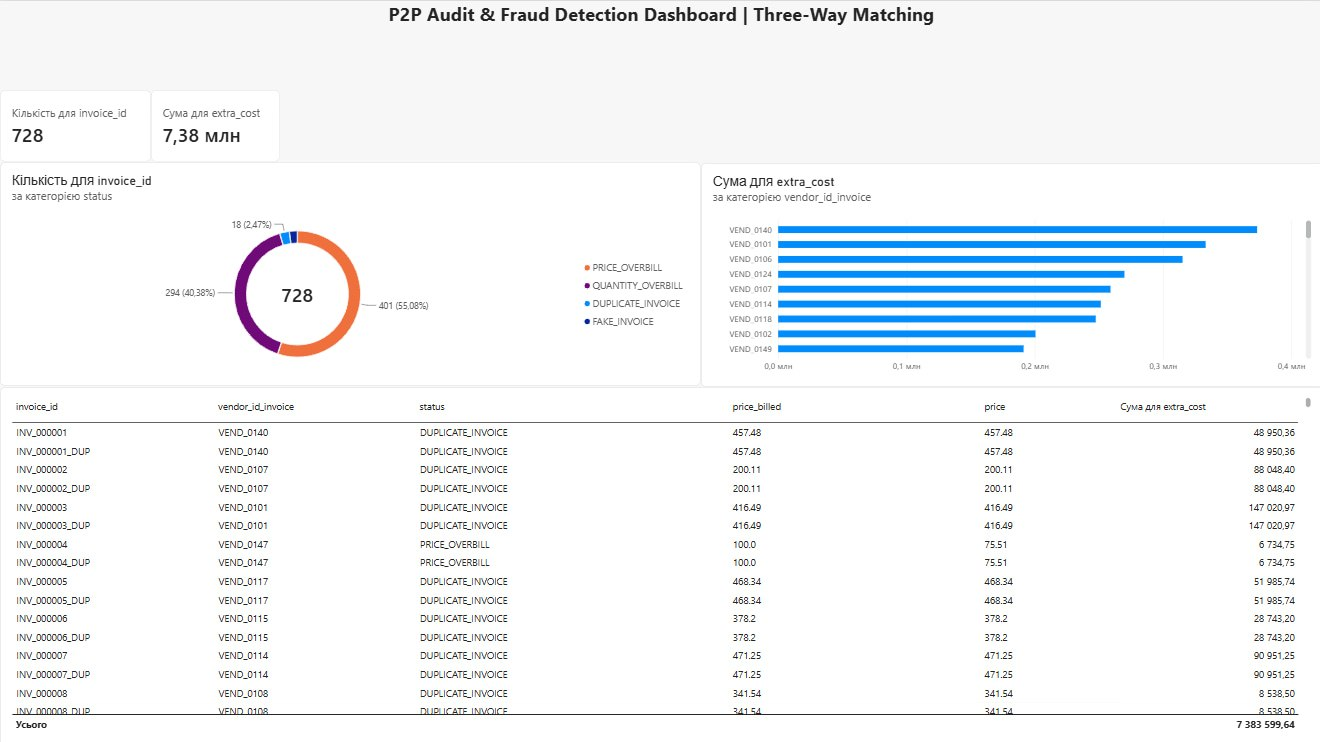

The dashboard page shown, as its layout file describes it:
{"tool":"powerbi","page":{"name":"Сторінка 1","canvas":[1920,1080],"ordinal":0},"visuals":[{"type":"cardVisual","fields":{"Data":["Sum(audit_exceptions_p2p.extra_cost)"]},"box":[219.1,129.2,187.2,104.5],"z":0},{"type":"cardVisual","fields":{"Data":["Count(audit_exceptions_p2p.invoice_id)"]},"box":[0,129.2,219.1,104.5],"z":1},{"type":"donutChart","fields":{"Category":["audit_exceptions_p2p.status"],"Y":["CountNonNull(audit_exceptions_p2p.invoice_id)"]},"box":[0,233.7,1017.3,325.1],"z":2},{"type":"barChart","fields":{"Category":["audit_exceptions_p2p.vendor_id_invoice"],"Y":["Sum(audit_exceptions_p2p.extra_cost)"]},"box":[1017.3,235.1,902.7,325.1],"z":3},{"type":"tableEx","fields":{"Values":["audit_exceptions_p2p.invoice_id","audit_exceptions_p2p.vendor_id_invoice","audit_exceptions_p2p.status","audit_exceptions_p2p.price_billed","audit_exceptions_p2p.price","Sum(audit_exceptions_p2p.extra_cost)"]},"box":[0,560.2,1920,519.5],"z":4},{"type":"textbox","box":[0,0,1920,129.2],"z":5}]}

Visuals, with their boxes in screenshot pixels (x1, y1, x2, y2), scaled from the page's 1920x1080 canvas onto the 1320x742 screenshot:
cardVisual - Sum(audit_exceptions_p2p.extra_cost): [151,89,279,161]
cardVisual - Count(audit_exceptions_p2p.invoice_id): [0,89,151,161]
donutChart - audit_exceptions_p2p.status x CountNonNull(audit_exceptions_p2p.invoice_id): [0,161,699,384]
barChart - audit_exceptions_p2p.vendor_id_invoice x Sum(audit_exceptions_p2p.extra_cost): [699,162,1319,385]
tableEx - audit_exceptions_p2p.invoice_id x audit_exceptions_p2p.vendor_id_invoice: [0,385,1319,741]
textbox: [0,0,1319,89]
